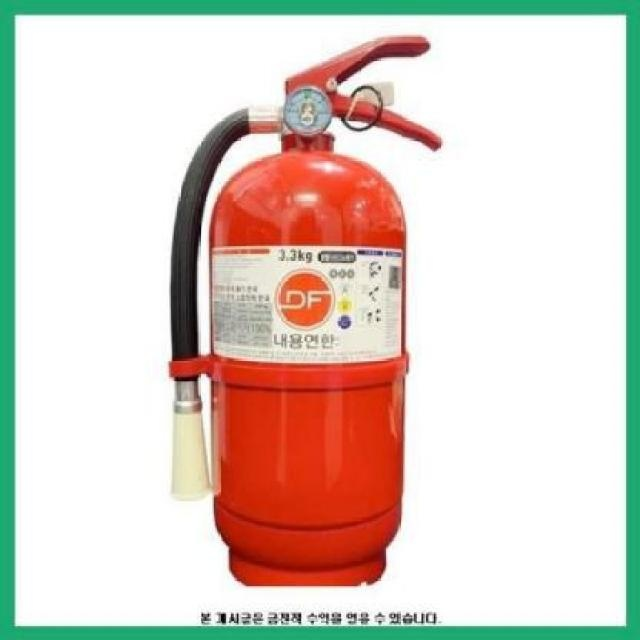fire extinguisher: (168, 35, 443, 588)
